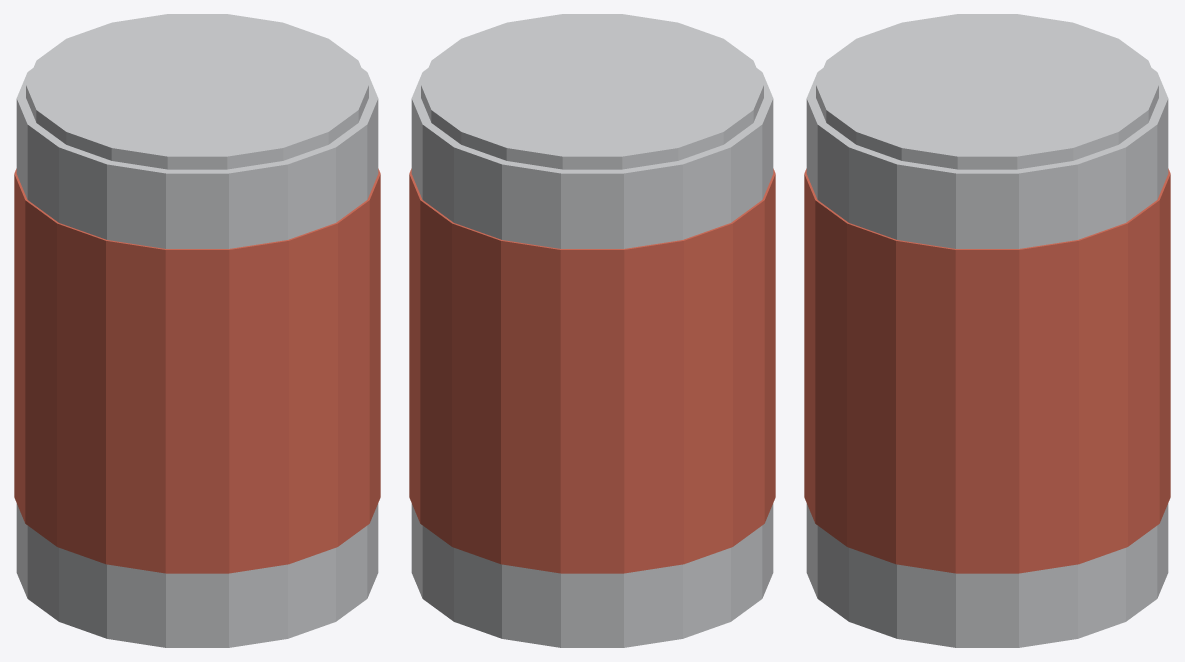
File: Loot_CannedFood.fbx
The picture shows the model from 3 angles, left to right: view 1: azimuth 30°, elevation 25°; view 2: azimuth 150°, elevation 25°; view 3: azimuth 270°, elevation 25°; orthographic projection.
Parts seen in each view (by area): view 1: Loot_CannedFood; view 2: Loot_CannedFood; view 3: Loot_CannedFood.
Boxes of the visible parts, box(x1,y1,x2,y2) form: Loot_CannedFood: box(14, 14, 380, 647); Loot_CannedFood: box(409, 14, 775, 647); Loot_CannedFood: box(804, 14, 1170, 647).
Size of the model in its own units: 0.0758 by 0.113 by 0.077.
